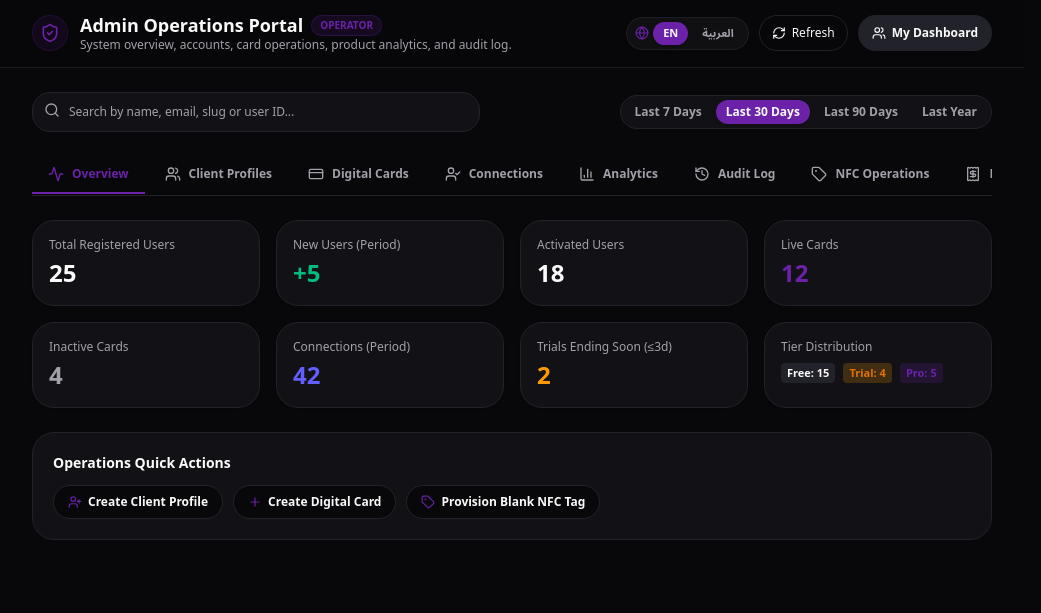
Test: Admin Operations Portal — Real Browser Suite › renders empty states gracefully when records are absent
The image size is (1041, 613).
// Users empty
Click the tab "Client Profiles" at (218, 174), box [148, 156, 288, 194]
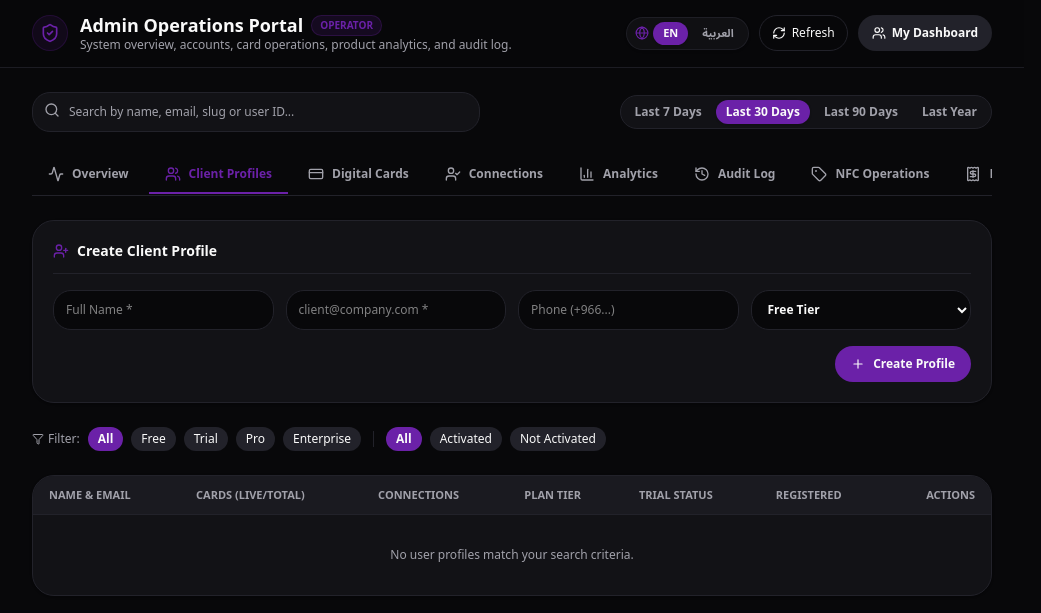
Expected: the text "No user profiles match your search criteria." is shown, [33, 515, 991, 595]
// Cards empty
Click the tab "Digital Cards" at (358, 174), box [292, 156, 425, 194]
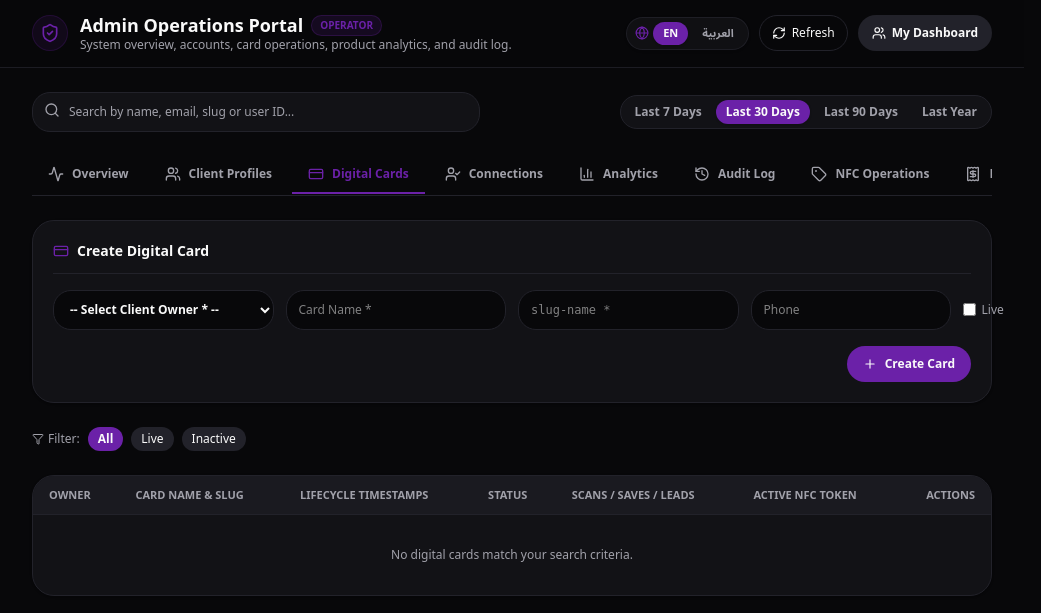
Expected: the text "No digital cards match your search criteria." is shown, [33, 515, 991, 595]
// Audit empty
Click the tab "Audit Log" at (735, 174), box [678, 156, 792, 194]
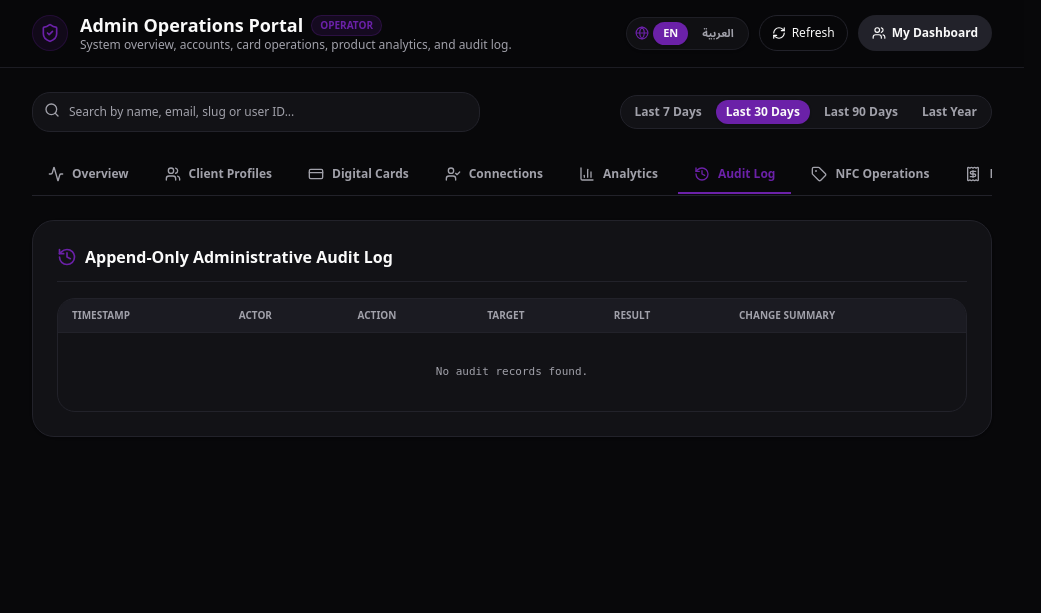
Expected: the text "No audit records found." is shown, [58, 332, 966, 412]
